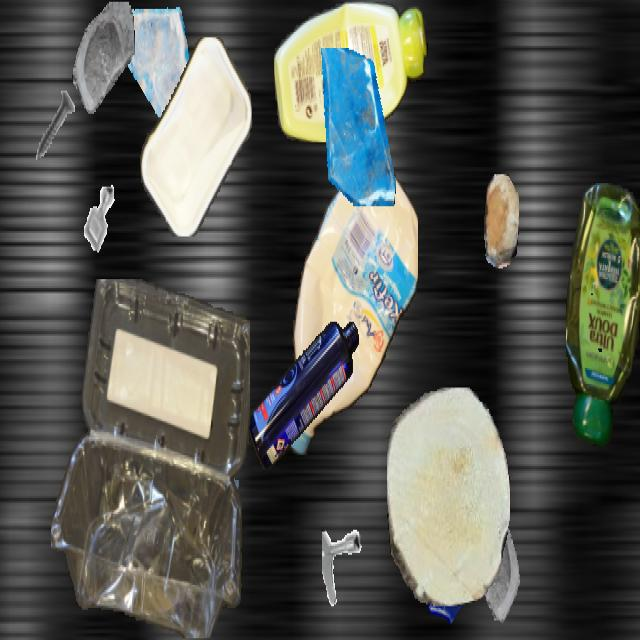glass: (312, 48, 400, 204), (163, 426, 239, 562), (457, 502, 533, 636), (119, 2, 191, 130), (417, 512, 479, 622), (72, 2, 134, 112)
metal: (322, 526, 382, 633), (29, 80, 83, 176), (74, 172, 126, 265)
plastic: (51, 279, 249, 638), (288, 153, 418, 462), (139, 38, 253, 236), (274, 2, 428, 140), (566, 183, 640, 446), (248, 322, 358, 468)
wood: (387, 388, 509, 604), (484, 174, 518, 267)
